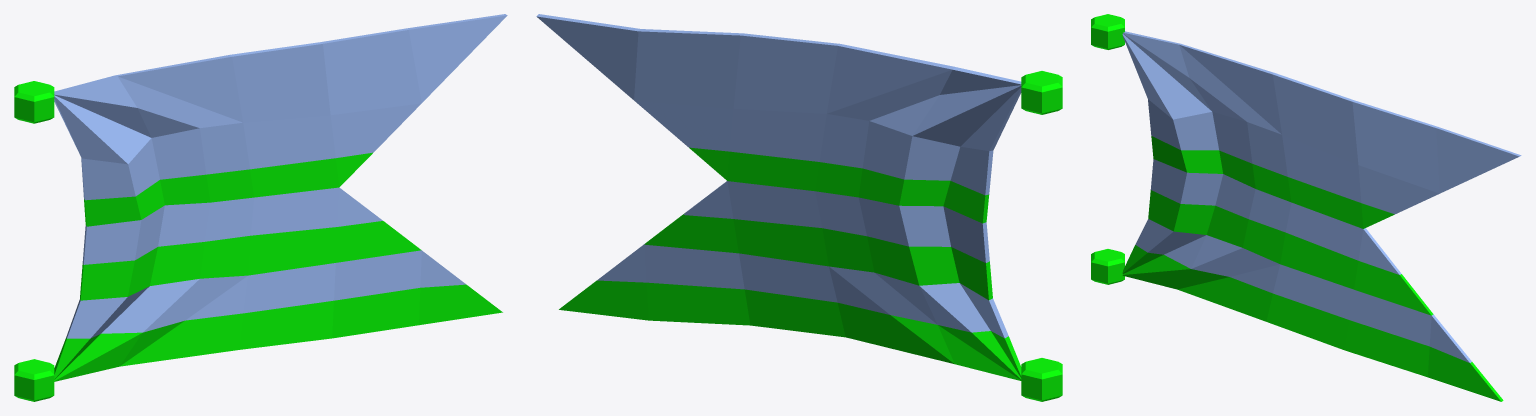
Rendered from SM_Flag_Regular_C_Fantasy.fbx.
The picture shows the model from 3 angles, left to right: view 1: azimuth 30°, elevation 25°; view 2: azimuth 150°, elevation 25°; view 3: azimuth 330°, elevation 25°; orthographic projection. The views are drawn at different scales.
Parts seen in each view (by area): view 1: flag-regular-c-fantasy; view 2: flag-regular-c-fantasy; view 3: flag-regular-c-fantasy.
Boxes of the visible parts, box(x1,y1,x2,y2) form: flag-regular-c-fantasy: box(14, 14, 507, 401); flag-regular-c-fantasy: box(536, 14, 1062, 401); flag-regular-c-fantasy: box(1091, 14, 1521, 401).
Size of the model in its own units: 1.12 by 0.7203 by 0.0777.
